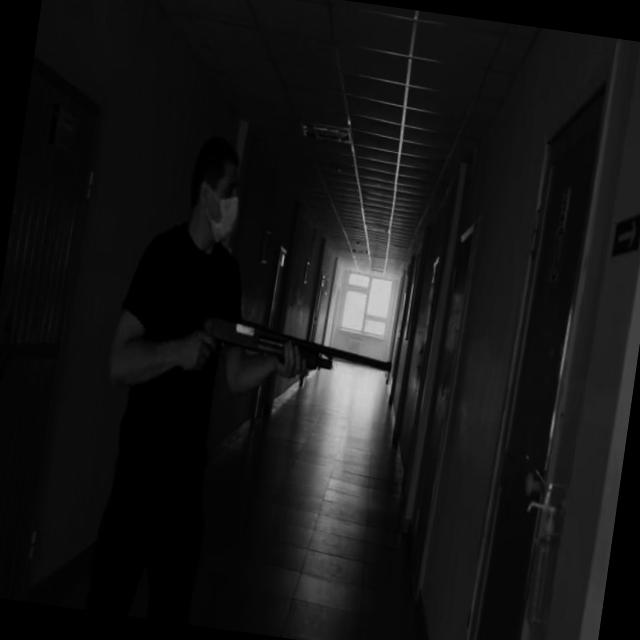gun: (193, 309, 397, 399)
person with a gun: (73, 127, 418, 640)
